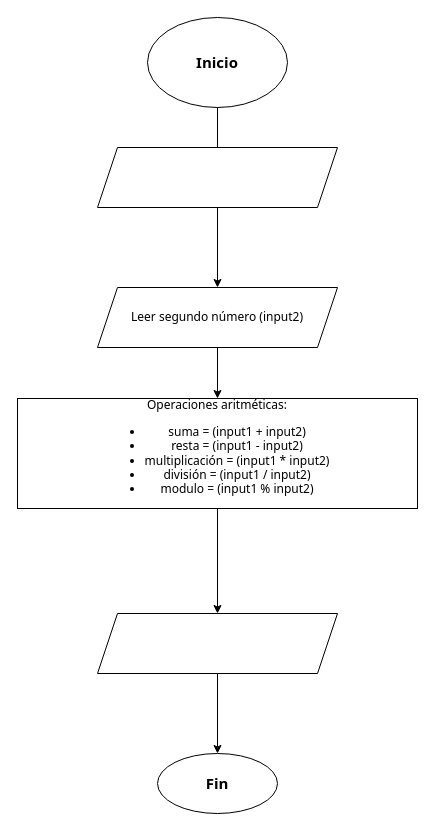
This 435x831 diagram has some shape labels left out. Each missing label, with the box of its shape:
Leer primer número (input1): (96, 146, 338, 208)
Mostrar resultados: Suma, resta, multiplicación, división, modulo: (96, 612, 338, 674)
